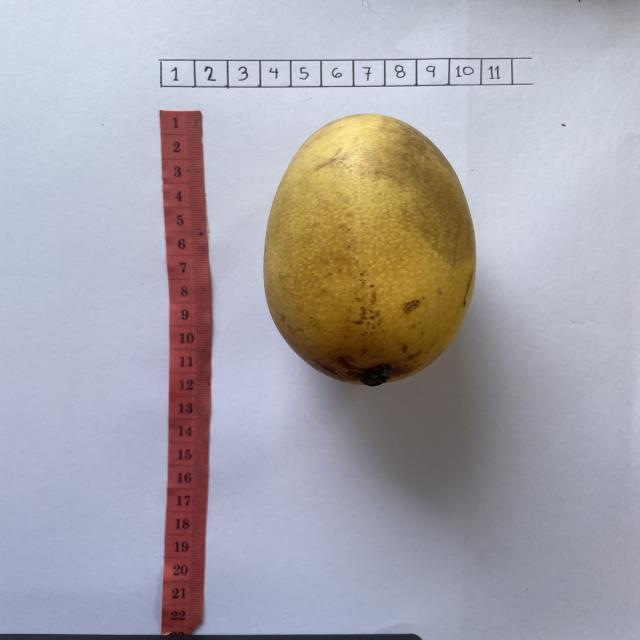Ripe: (262, 113, 478, 390)
